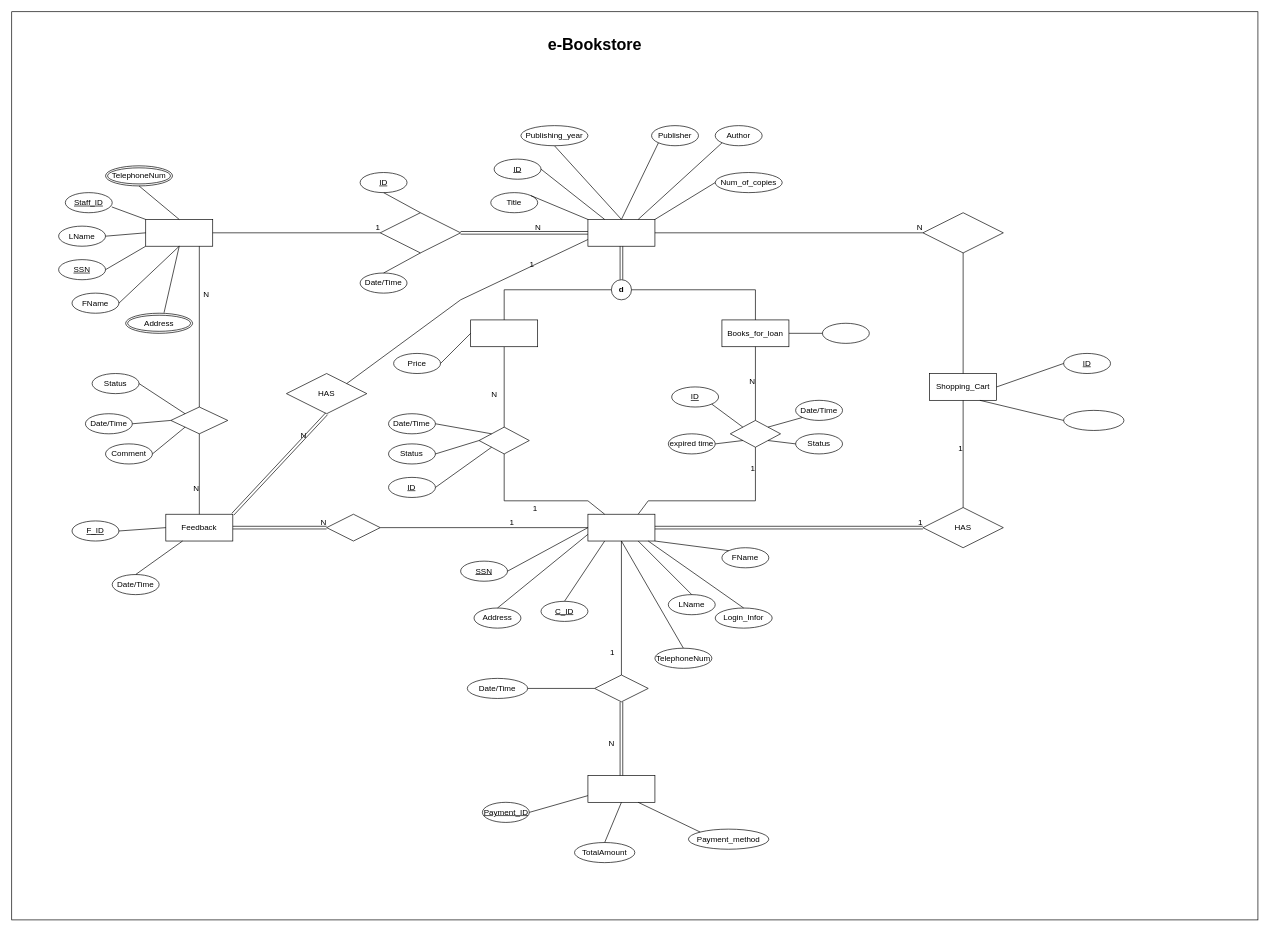
This 1270x932 diagram has some shape labels left out. The shapes that lost their labels are listed below. From the top down, each one's centre as x and y in pixels, then its label:
At [179,232]: "Staff".
At [420,232]: "IMPORT".
At [621,232]: "Book".
At [962,232]: "CONTAIN".
At [504,333]: "Books_for_sale".
At [845,333]: "Rate".
At [199,420]: "Process".
At [503,440]: "ORDER".
At [755,433]: "LOAN".
At [1093,420]: "Total_Amount".
At [353,527]: "GIVE".
At [621,527]: "Customer".
At [621,688]: "MAKE".
At [621,788]: "Payment".
